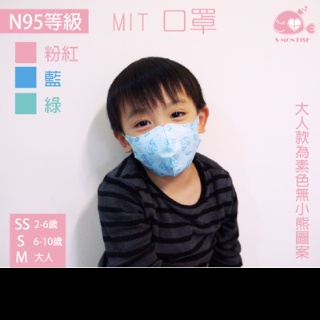with_mask: (122, 97, 200, 178)
